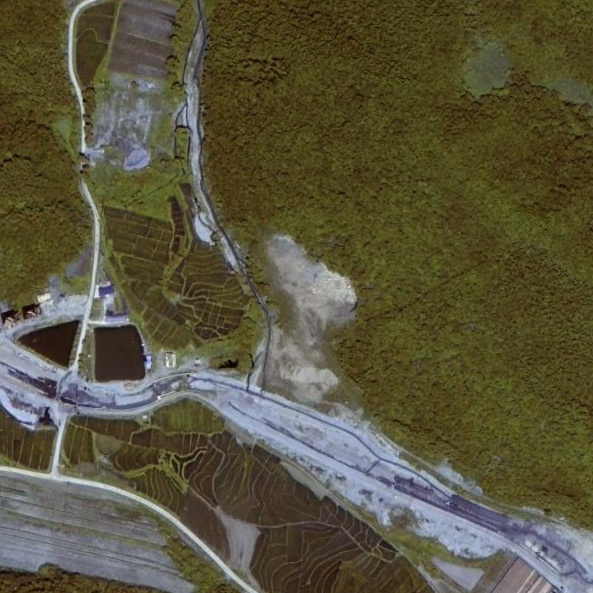slope: (250, 228, 397, 449)
